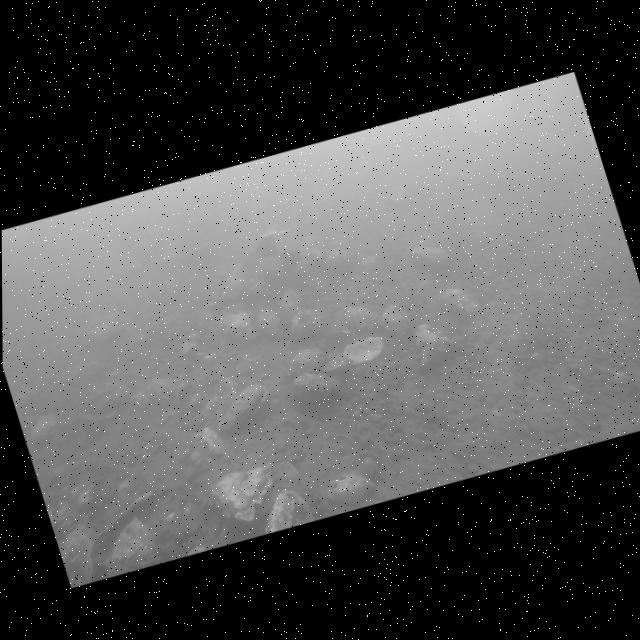Oyster-Closed: (212, 464, 276, 521), (214, 381, 264, 431), (265, 489, 314, 533), (427, 288, 479, 329), (415, 323, 452, 366), (327, 473, 375, 504), (293, 372, 339, 402), (408, 245, 454, 271), (287, 347, 328, 376), (290, 308, 322, 340), (88, 312, 121, 343), (220, 311, 256, 339), (65, 361, 104, 385), (346, 307, 381, 330), (31, 414, 58, 442), (381, 305, 408, 332), (257, 309, 282, 337), (280, 288, 302, 319)
Oyster-Indeterminate: (106, 513, 171, 576), (61, 528, 97, 587), (199, 373, 240, 422)
Oyster-Open: (323, 336, 383, 371)
